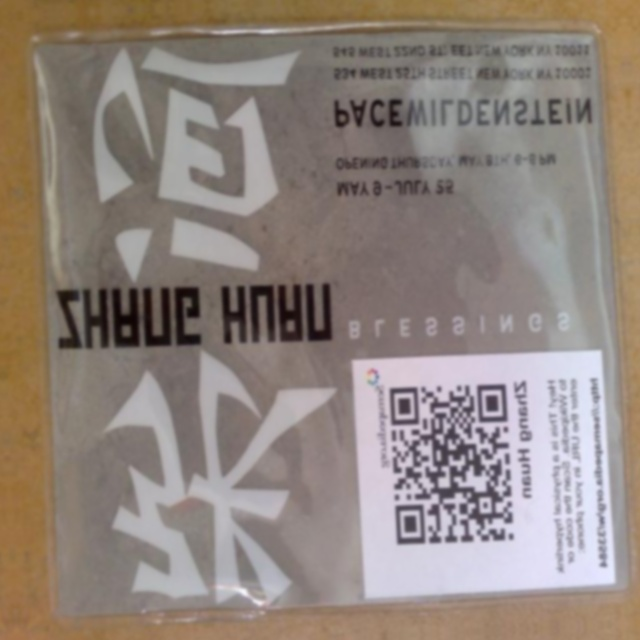qr-code: (389, 382, 514, 546)
